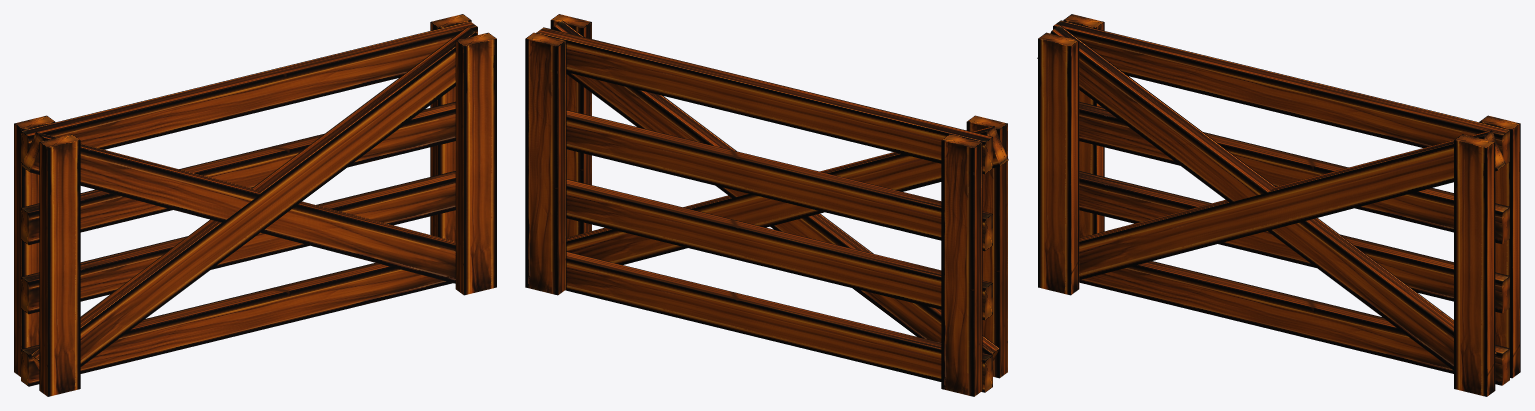
Rendered from fence.fbx.
3 renders of one model, left to right at view 1: azimuth 30°, elevation 25°; view 2: azimuth 150°, elevation 25°; view 3: azimuth 330°, elevation 25°, orthographic.
Visible parts, largest first — view 1: fence; view 2: fence; view 3: fence.
Boxes of the visible parts, x1=… form: fence: x1=14, y1=14, x2=496, y2=396; fence: x1=525, y1=14, x2=1008, y2=396; fence: x1=1037, y1=14, x2=1520, y2=396.
Bounding box in the file's own units: 579 × 304 × 73.74.
